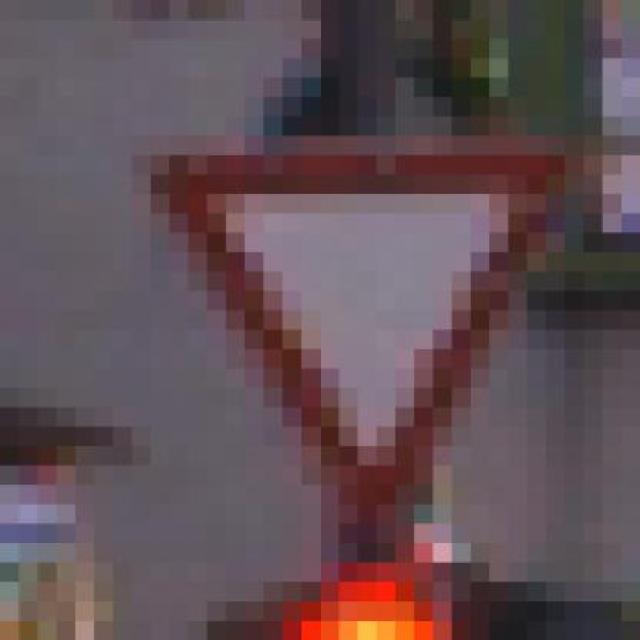Give Way: (132, 97, 602, 563)
